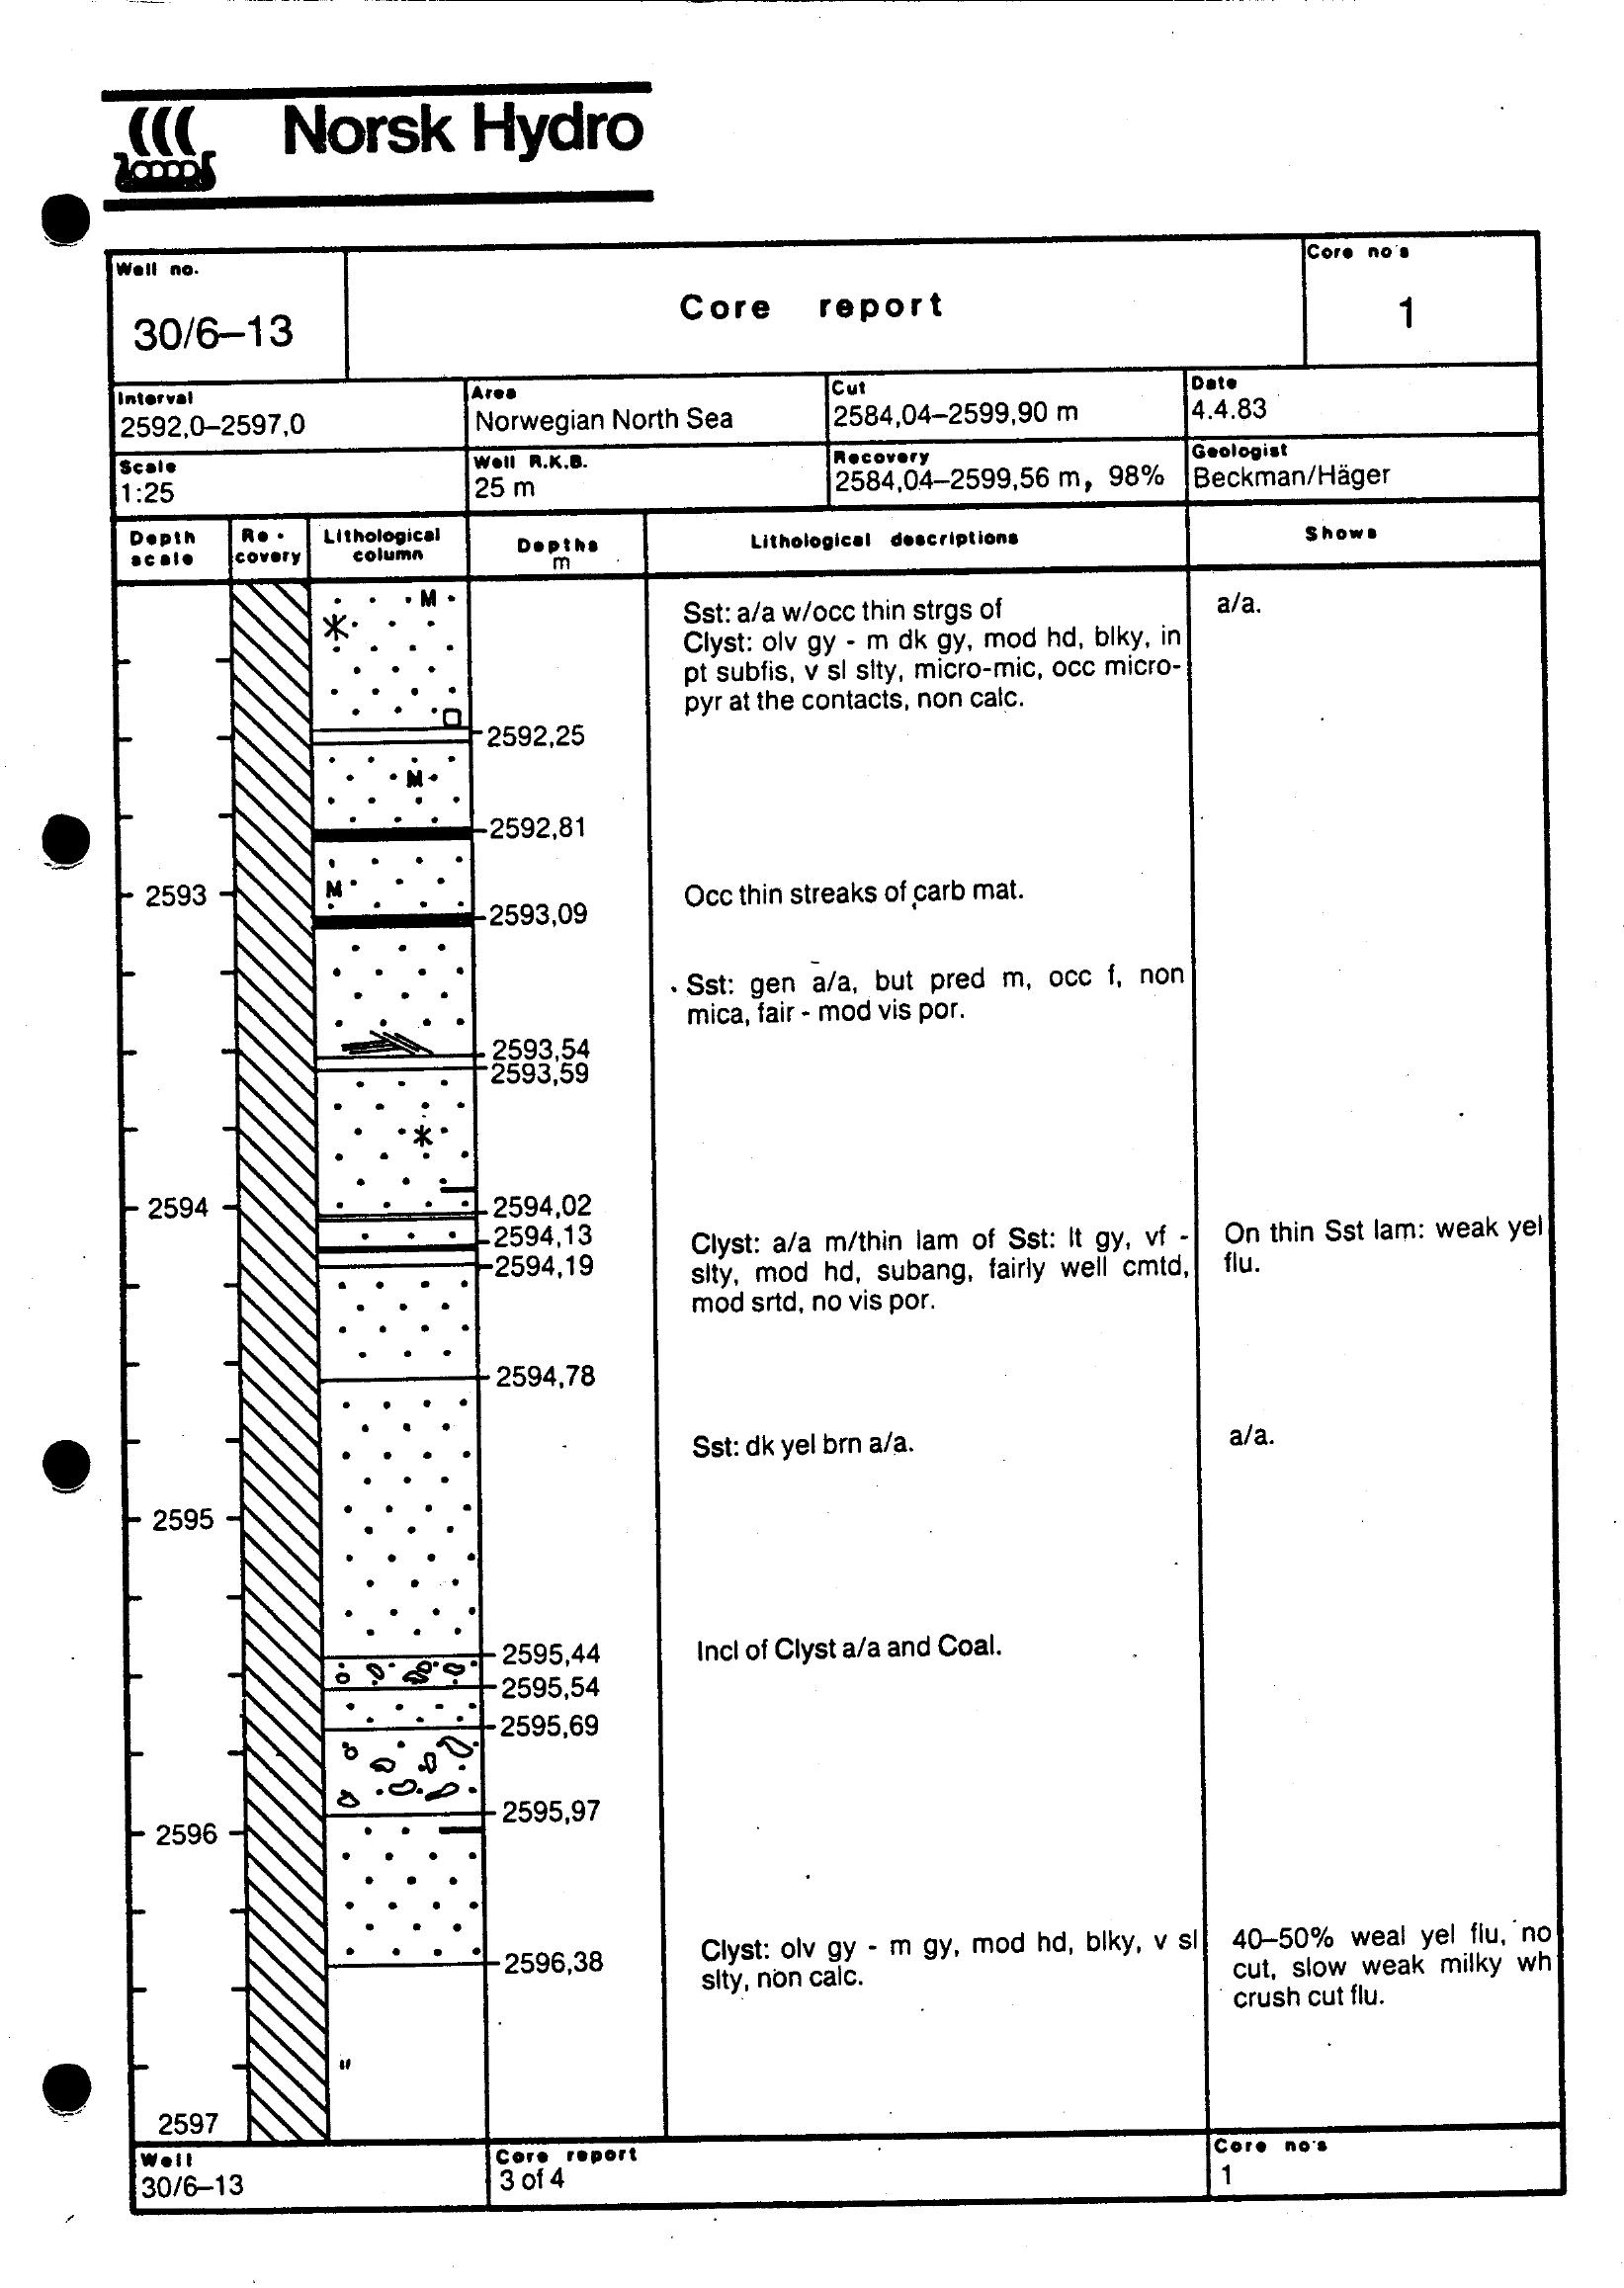graph: (93, 232, 1578, 2230)
undefined: (81, 79, 668, 213)
